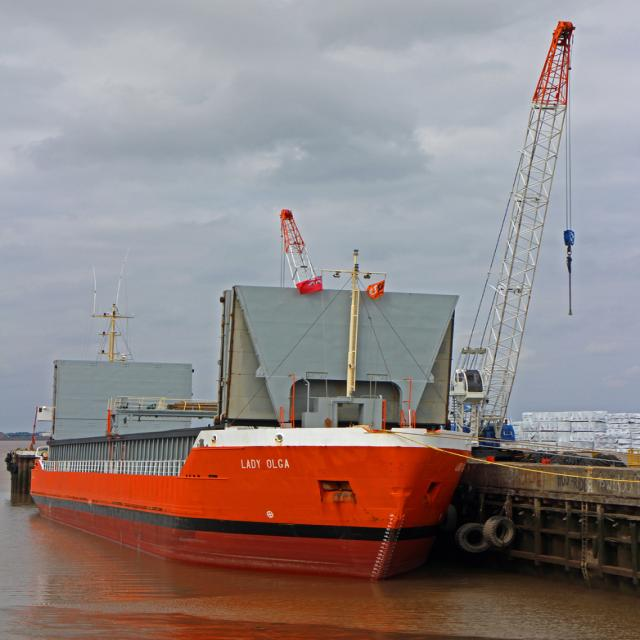Boat: (25, 246, 477, 586)
